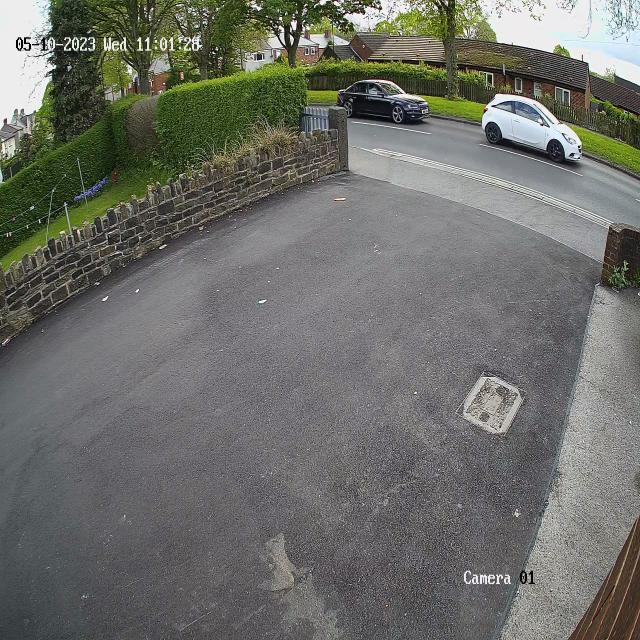vehicle: (478, 87, 588, 169), (336, 70, 433, 128)
